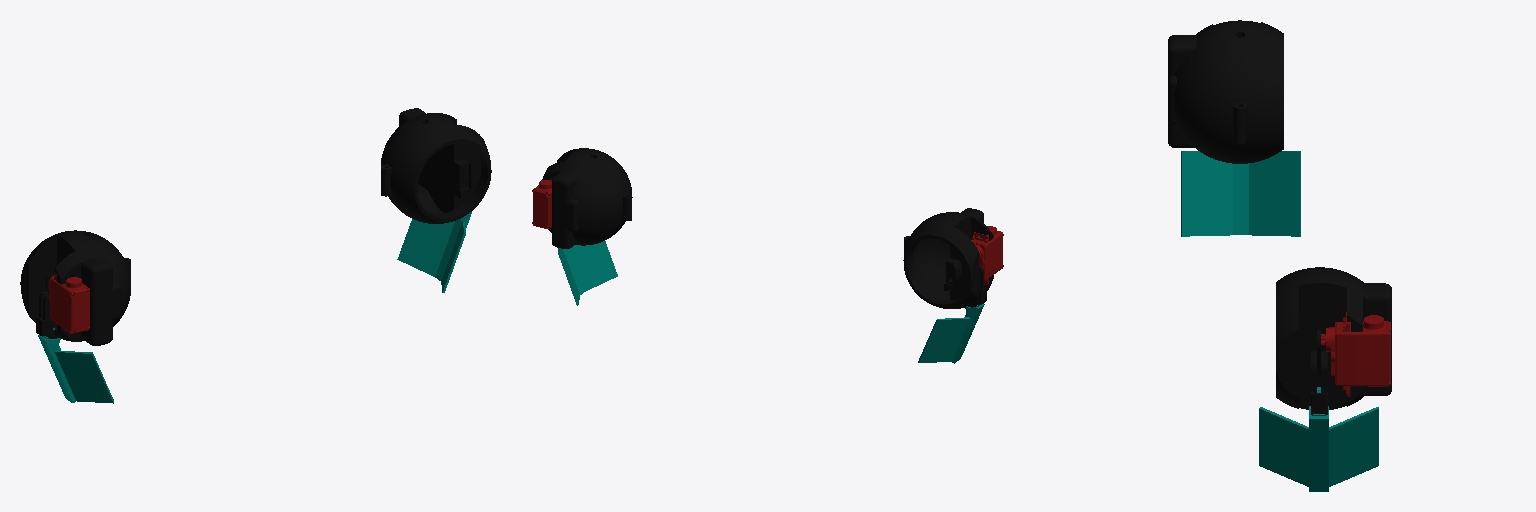
URDF robot description (colony):
<?xml version="1.0" ?>
<!-- =================================================================================== -->
<!-- |    This document was autogenerated by xacro from [local-path]/ros2_ws/src/modular/models/urdf/colony_2.xacro | -->
<!-- |    EDITING THIS FILE BY HAND IS NOT RECOMMENDED                                 | -->
<!-- =================================================================================== -->
<robot name="colony">
  <!--
    module_macro.xacro
    Usage: <xacro:module_instance prefix="r1_" parent="colony_base" xyz="0.15 0 0" rpy="0 0 1.57079632679"/>
  -->
  <link name="colony_base"/>
  <!-- Attach module root to parent -->
  <joint name="r1_mount" type="fixed">
    <origin rpy="0 -1.5707963 1.5708" xyz="0.15 0 0"/>
    <parent link="colony_base"/>
    <child link="r1_main_body_link"/>
  </joint>
  <!-- Main Body -->
  <link name="r1_main_body_link">
    <inertial>
      <origin rpy="0 0 0" xyz="0 0.003263 -0.024012"/>
      <mass value="0.0508654"/>
      <inertia ixx="3.2369E-05" ixy="-5.1865E-08" ixz="6.2298E-08" iyy="3.8892E-05" iyz="1.5562E-06" izz="3.8330E-05"/>
    </inertial>
    <visual>
      <origin rpy="0 0 0" xyz="0 0 0"/>
      <geometry>
        <mesh filename="meshes/main_body.STL"/>
      </geometry>
      <material name="r1_grey">
        <color rgba=".1 .1 .1 1"/>
      </material>
    </visual>
    <collision>
      <origin rpy="0 0 0" xyz="0 0 0"/>
      <geometry>
        <mesh filename="meshes/main_body.STL"/>
      </geometry>
    </collision>
  </link>
  <!-- Cap (fixed) -->
  <link name="r1_cap_link">
    <inertial>
      <origin rpy="0 0 0" xyz="0 0 0.002584"/>
      <mass value="0.0207453"/>
      <inertia ixx="5.2686E-06" ixy="2.2073E-12" ixz="-4.2054E-12" iyy="5.8008E-06" iyz="8.3798E-12" izz="1.0095E-05"/>
    </inertial>
    <visual>
      <origin rpy="0 0 0" xyz="0 0 0"/>
      <geometry>
        <mesh filename="meshes/cap.STL"/>
      </geometry>
      <material name="r1_grey"/>
    </visual>
    <collision>
      <origin rpy="0 0 0" xyz="0 0 0"/>
      <geometry>
        <mesh filename="meshes/cap.STL"/>
      </geometry>
    </collision>
  </link>
  <!-- Motor (fixed) -->
  <link name="r1_motor_link">
    <inertial>
      <origin rpy="0 0 0" xyz="0.000583 0.013451 0"/>
      <mass value="0.0180991"/>
      <inertia ixx="1.7385E-06" ixy="-6.0293E-09" ixz="-2.8041E-10" iyy="1.8742E-06" iyz="-3.9561E-11" izz="2.9658E-06"/>
    </inertial>
    <visual>
      <origin rpy="0 0 0" xyz="0 0 0"/>
      <geometry>
        <mesh filename="meshes/motor.STL"/>
      </geometry>
      <material name="r1_red">
        <color rgba=".5 .1 .1 1"/>
      </material>
    </visual>
    <collision>
      <origin rpy="0 0 0" xyz="0 0 0"/>
      <geometry>
        <mesh filename="meshes/motor.STL"/>
      </geometry>
    </collision>
  </link>
  <joint name="r1_main_body_to_cap" type="fixed">
    <origin rpy="0 0 0" xyz="0 0 0.001"/>
    <parent link="r1_main_body_link"/>
    <child link="r1_cap_link"/>
  </joint>
  <joint name="r1_main_body_to_motor" type="fixed">
    <origin rpy="1.57079632679 0 0" xyz="0 -0.017 -0.055"/>
    <parent link="r1_main_body_link"/>
    <child link="r1_motor_link"/>
  </joint>
  <!-- Motor paddle (revolute hinge) -->
  <link name="r1_motor_paddle_link">
    <inertial>
      <origin rpy="0 0 0" xyz="-0.00442 -0.000212 0"/>
      <mass value="0.000425108"/>
      <inertia ixx="2.9604E-09" ixy="1.1351E-10" ixz="-4.1107E-26" iyy="1.4476E-08" iyz="5.9011E-26" izz="1.7153E-08"/>
    </inertial>
    <visual>
      <origin rpy="0 0 0" xyz="0 0 0"/>
      <geometry>
        <mesh filename="meshes/motor_paddle.STL"/>
      </geometry>
      <material name="r1_grey"/>
    </visual>
    <collision>
      <origin rpy="0 0 0" xyz="0 0 0"/>
      <geometry>
        <mesh filename="meshes/motor_paddle.STL"/>
      </geometry>
    </collision>
  </link>
  <joint name="r1_motor_hinge" type="revolute">
    <origin rpy="1.57079632679 0 0" xyz="0.008 0.035 0"/>
    <axis xyz="0 0 1"/>
    <limit effort="1.0" lower="-0.7854" upper="0.7854" velocity="10.0"/>
    <parent link="r1_motor_link"/>
    <child link="r1_motor_paddle_link"/>
    <dynamics damping="1e-1"/>
  </joint>
  <!-- flA, flB (fixed) -->
  <link name="r1_flA_link">
    <inertial>
      <origin rpy="0 0 0" xyz="0.001618 0.001988 -0.000278"/>
      <mass value="0.0175588"/>
      <inertia ixx="4.1751E-08" ixy="1.0291E-08" ixz="2.1462E-09" iyy="1.2538E-07" iyz="1.0233E-09" izz="1.6320E-07"/>
    </inertial>
    <visual>
      <origin rpy="0 0 0" xyz="0 0 0"/>
      <geometry>
        <mesh filename="meshes/flA.STL"/>
      </geometry>
      <material name="r1_grey"/>
    </visual>
    <collision>
      <origin rpy="0 0 0" xyz="0 0 0"/>
      <geometry>
        <mesh filename="meshes/flA.STL"/>
      </geometry>
    </collision>
  </link>
  <link name="r1_flB_link">
    <inertial>
      <origin rpy="0 0 0" xyz="0.001618 0.001988 0.000278"/>
      <mass value="0.017588"/>
      <inertia ixx="4.1751E-08" ixy="1.0291E-08" ixz="-2.1462E-09" iyy="1.2538E-07" iyz="-1.0233E-09" izz="1.6320E-07"/>
    </inertial>
    <visual>
      <origin rpy="0 0 0" xyz="0 0 0"/>
      <geometry>
        <mesh filename="meshes/flB.STL"/>
      </geometry>
      <material name="r1_grey"/>
    </visual>
    <collision>
      <origin rpy="0 0 0" xyz="0 0 0"/>
      <geometry>
        <mesh filename="meshes/flB.STL"/>
      </geometry>
    </collision>
  </link>
  <joint name="r1_motor_paddle_to_flA" type="fixed">
    <origin rpy="0 0 0" xyz="-0.025 0 0.003"/>
    <parent link="r1_motor_paddle_link"/>
    <child link="r1_flA_link"/>
  </joint>
  <joint name="r1_motor_paddle_to_flB" type="fixed">
    <origin rpy="0 0 0" xyz="-0.025 0 -0.003"/>
    <parent link="r1_motor_paddle_link"/>
    <child link="r1_flB_link"/>
  </joint>
  <!-- Paddle (revolute hinge) -->
  <link name="r1_paddle_link">
    <inertial>
      <origin rpy="0 0 0" xyz="0.001281 0.029867 0"/>
      <mass value="0.00849369"/>
      <inertia ixx="4.2957E-06" ixy="3.0329E-08" ixz="1.9701E-22" iyy="1.9992E-06" iyz="-3.8433E-22" izz="2.7663E-06"/>
    </inertial>
    <visual>
      <origin rpy="0 0 0" xyz="0 0 0"/>
      <geometry>
        <mesh filename="meshes/paddle.STL"/>
      </geometry>
      <material name="r1_mint">
        <color rgba="0.02 0.5 0.46 1"/>
      </material>
    </visual>
    <collision>
      <origin rpy="0 0 0" xyz="0 0 0"/>
      <geometry>
        <mesh filename="meshes/paddle.STL"/>
      </geometry>
    </collision>
  </link>
  <joint name="r1_paddle_hinge" type="revolute">
    <origin rpy="0 0 1.96349539694" xyz="-0.0335 0.0015 0"/>
    <axis xyz="0 0 1"/>
    <limit effort="1.0" lower="-0.3927" upper="0.3927" velocity="10.0"/>
    <parent link="r1_motor_paddle_link"/>
    <child link="r1_paddle_link"/>
    <dynamics damping="1e-1"/>
  </joint>
  <!-- Attach module root to parent -->
  <joint name="r2_mount" type="fixed">
    <origin rpy="0 -1.5707963 4.71239" xyz="-0.15 1.83697e-17 0"/>
    <parent link="colony_base"/>
    <child link="r2_main_body_link"/>
  </joint>
  <!-- Main Body -->
  <link name="r2_main_body_link">
    <inertial>
      <origin rpy="0 0 0" xyz="0 0.003263 -0.024012"/>
      <mass value="0.0508654"/>
      <inertia ixx="3.2369E-05" ixy="-5.1865E-08" ixz="6.2298E-08" iyy="3.8892E-05" iyz="1.5562E-06" izz="3.8330E-05"/>
    </inertial>
    <visual>
      <origin rpy="0 0 0" xyz="0 0 0"/>
      <geometry>
        <mesh filename="meshes/main_body.STL"/>
      </geometry>
      <material name="r2_grey">
        <color rgba=".1 .1 .1 1"/>
      </material>
    </visual>
    <collision>
      <origin rpy="0 0 0" xyz="0 0 0"/>
      <geometry>
        <mesh filename="meshes/main_body.STL"/>
      </geometry>
    </collision>
  </link>
  <!-- Cap (fixed) -->
  <link name="r2_cap_link">
    <inertial>
      <origin rpy="0 0 0" xyz="0 0 0.002584"/>
      <mass value="0.0207453"/>
      <inertia ixx="5.2686E-06" ixy="2.2073E-12" ixz="-4.2054E-12" iyy="5.8008E-06" iyz="8.3798E-12" izz="1.0095E-05"/>
    </inertial>
    <visual>
      <origin rpy="0 0 0" xyz="0 0 0"/>
      <geometry>
        <mesh filename="meshes/cap.STL"/>
      </geometry>
      <material name="r2_grey"/>
    </visual>
    <collision>
      <origin rpy="0 0 0" xyz="0 0 0"/>
      <geometry>
        <mesh filename="meshes/cap.STL"/>
      </geometry>
    </collision>
  </link>
  <!-- Motor (fixed) -->
  <link name="r2_motor_link">
    <inertial>
      <origin rpy="0 0 0" xyz="0.000583 0.013451 0"/>
      <mass value="0.0180991"/>
      <inertia ixx="1.7385E-06" ixy="-6.0293E-09" ixz="-2.8041E-10" iyy="1.8742E-06" iyz="-3.9561E-11" izz="2.9658E-06"/>
    </inertial>
    <visual>
      <origin rpy="0 0 0" xyz="0 0 0"/>
      <geometry>
        <mesh filename="meshes/motor.STL"/>
      </geometry>
      <material name="r2_red">
        <color rgba=".5 .1 .1 1"/>
      </material>
    </visual>
    <collision>
      <origin rpy="0 0 0" xyz="0 0 0"/>
      <geometry>
        <mesh filename="meshes/motor.STL"/>
      </geometry>
    </collision>
  </link>
  <joint name="r2_main_body_to_cap" type="fixed">
    <origin rpy="0 0 0" xyz="0 0 0.001"/>
    <parent link="r2_main_body_link"/>
    <child link="r2_cap_link"/>
  </joint>
  <joint name="r2_main_body_to_motor" type="fixed">
    <origin rpy="1.57079632679 0 0" xyz="0 -0.017 -0.055"/>
    <parent link="r2_main_body_link"/>
    <child link="r2_motor_link"/>
  </joint>
  <!-- Motor paddle (revolute hinge) -->
  <link name="r2_motor_paddle_link">
    <inertial>
      <origin rpy="0 0 0" xyz="-0.00442 -0.000212 0"/>
      <mass value="0.000425108"/>
      <inertia ixx="2.9604E-09" ixy="1.1351E-10" ixz="-4.1107E-26" iyy="1.4476E-08" iyz="5.9011E-26" izz="1.7153E-08"/>
    </inertial>
    <visual>
      <origin rpy="0 0 0" xyz="0 0 0"/>
      <geometry>
        <mesh filename="meshes/motor_paddle.STL"/>
      </geometry>
      <material name="r2_grey"/>
    </visual>
    <collision>
      <origin rpy="0 0 0" xyz="0 0 0"/>
      <geometry>
        <mesh filename="meshes/motor_paddle.STL"/>
      </geometry>
    </collision>
  </link>
  <joint name="r2_motor_hinge" type="revolute">
    <origin rpy="1.57079632679 0 0" xyz="0.008 0.035 0"/>
    <axis xyz="0 0 1"/>
    <limit effort="1.0" lower="-0.7854" upper="0.7854" velocity="10.0"/>
    <parent link="r2_motor_link"/>
    <child link="r2_motor_paddle_link"/>
    <dynamics damping="1e-1"/>
  </joint>
  <!-- flA, flB (fixed) -->
  <link name="r2_flA_link">
    <inertial>
      <origin rpy="0 0 0" xyz="0.001618 0.001988 -0.000278"/>
      <mass value="0.0175588"/>
      <inertia ixx="4.1751E-08" ixy="1.0291E-08" ixz="2.1462E-09" iyy="1.2538E-07" iyz="1.0233E-09" izz="1.6320E-07"/>
    </inertial>
    <visual>
      <origin rpy="0 0 0" xyz="0 0 0"/>
      <geometry>
        <mesh filename="meshes/flA.STL"/>
      </geometry>
      <material name="r2_grey"/>
    </visual>
    <collision>
      <origin rpy="0 0 0" xyz="0 0 0"/>
      <geometry>
        <mesh filename="meshes/flA.STL"/>
      </geometry>
    </collision>
  </link>
  <link name="r2_flB_link">
    <inertial>
      <origin rpy="0 0 0" xyz="0.001618 0.001988 0.000278"/>
      <mass value="0.017588"/>
      <inertia ixx="4.1751E-08" ixy="1.0291E-08" ixz="-2.1462E-09" iyy="1.2538E-07" iyz="-1.0233E-09" izz="1.6320E-07"/>
    </inertial>
    <visual>
      <origin rpy="0 0 0" xyz="0 0 0"/>
      <geometry>
        <mesh filename="meshes/flB.STL"/>
      </geometry>
      <material name="r2_grey"/>
    </visual>
    <collision>
      <origin rpy="0 0 0" xyz="0 0 0"/>
      <geometry>
        <mesh filename="meshes/flB.STL"/>
      </geometry>
    </collision>
  </link>
  <joint name="r2_motor_paddle_to_flA" type="fixed">
    <origin rpy="0 0 0" xyz="-0.025 0 0.003"/>
    <parent link="r2_motor_paddle_link"/>
    <child link="r2_flA_link"/>
  </joint>
  <joint name="r2_motor_paddle_to_flB" type="fixed">
    <origin rpy="0 0 0" xyz="-0.025 0 -0.003"/>
    <parent link="r2_motor_paddle_link"/>
    <child link="r2_flB_link"/>
  </joint>
  <!-- Paddle (revolute hinge) -->
  <link name="r2_paddle_link">
    <inertial>
      <origin rpy="0 0 0" xyz="0.001281 0.029867 0"/>
      <mass value="0.00849369"/>
      <inertia ixx="4.2957E-06" ixy="3.0329E-08" ixz="1.9701E-22" iyy="1.9992E-06" iyz="-3.8433E-22" izz="2.7663E-06"/>
    </inertial>
    <visual>
      <origin rpy="0 0 0" xyz="0 0 0"/>
      <geometry>
        <mesh filename="meshes/paddle.STL"/>
      </geometry>
      <material name="r2_mint">
        <color rgba="0.02 0.5 0.46 1"/>
      </material>
    </visual>
    <collision>
      <origin rpy="0 0 0" xyz="0 0 0"/>
      <geometry>
        <mesh filename="meshes/paddle.STL"/>
      </geometry>
    </collision>
  </link>
  <joint name="r2_paddle_hinge" type="revolute">
    <origin rpy="0 0 1.96349539694" xyz="-0.0335 0.0015 0"/>
    <axis xyz="0 0 1"/>
    <limit effort="1.0" lower="-0.3927" upper="0.3927" velocity="10.0"/>
    <parent link="r2_motor_paddle_link"/>
    <child link="r2_paddle_link"/>
    <dynamics damping="1e-1"/>
  </joint>
</robot>

--- Facts derived from the render (not from the file) ---
3 views of the same robot in one strip: view 1: azimuth 30°, elevation 25°; view 2: azimuth 150°, elevation 25°; view 3: azimuth 270°, elevation 25° (orthographic).
Robot: colony — 15 links, 14 joints (4 revolute, 10 fixed); root link colony_base; default pose: every joint at zero.
Visible links, largest first — view 1: r1_main_body_link, r2_main_body_link, r1_paddle_link, r2_paddle_link, r2_motor_link; view 2: r1_main_body_link, r2_main_body_link, r1_paddle_link, r2_paddle_link, r2_motor_link, r1_motor_link; view 3: r2_main_body_link, r1_main_body_link, r2_paddle_link, r1_paddle_link, r1_motor_link.
Link boxes in pixels (box(x1,y1,x2,y2)): r1_main_body_link: box(381, 108, 491, 223); r2_main_body_link: box(20, 230, 130, 345); r1_paddle_link: box(397, 212, 471, 292); r2_paddle_link: box(38, 327, 113, 403); r2_motor_link: box(48, 274, 89, 333); r1_main_body_link: box(542, 148, 632, 248); r2_main_body_link: box(903, 208, 993, 308); r1_paddle_link: box(558, 241, 617, 305); r2_paddle_link: box(918, 304, 984, 363); r2_motor_link: box(971, 226, 1003, 284); r1_motor_link: box(532, 180, 551, 228); r2_main_body_link: box(1168, 20, 1283, 163); r1_main_body_link: box(1276, 267, 1391, 409); r2_paddle_link: box(1181, 151, 1300, 236); r1_paddle_link: box(1259, 387, 1378, 491); r1_motor_link: box(1321, 312, 1390, 395).
Size in the robot's own frame: 0.3591 by 0.1146 by 0.1202 metres.
12 mesh visuals loaded from 7 distinct referenced files (6 binary STL); not drawn: 2 (reference not matched to a file when rendering).